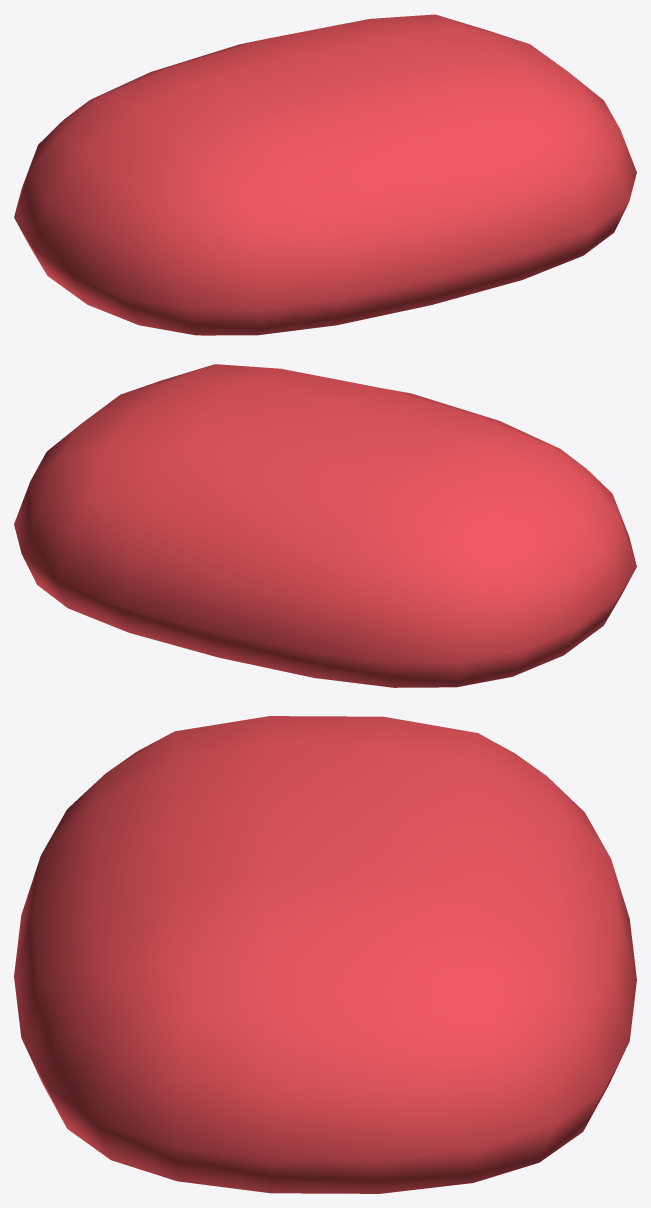
File: Pillow_002.glb
3 views of the same model, one above another, from view 1: azimuth 30°, elevation 25°; view 2: azimuth 150°, elevation 25°; view 3: azimuth 270°, elevation 25° (orthographic). The views are drawn at different scales.
Parts seen in each view (by area): view 1: Pillow_002; view 2: Pillow_002; view 3: Pillow_002.
Part boxes in pixels (x1=…): Pillow_002: x1=14, y1=14, x2=636, y2=335; Pillow_002: x1=14, y1=364, x2=636, y2=687; Pillow_002: x1=14, y1=716, x2=636, y2=1193.
Bounding box in the file's own units: 0.462 × 0.143 × 0.3356.
1 material, 1 textured.
